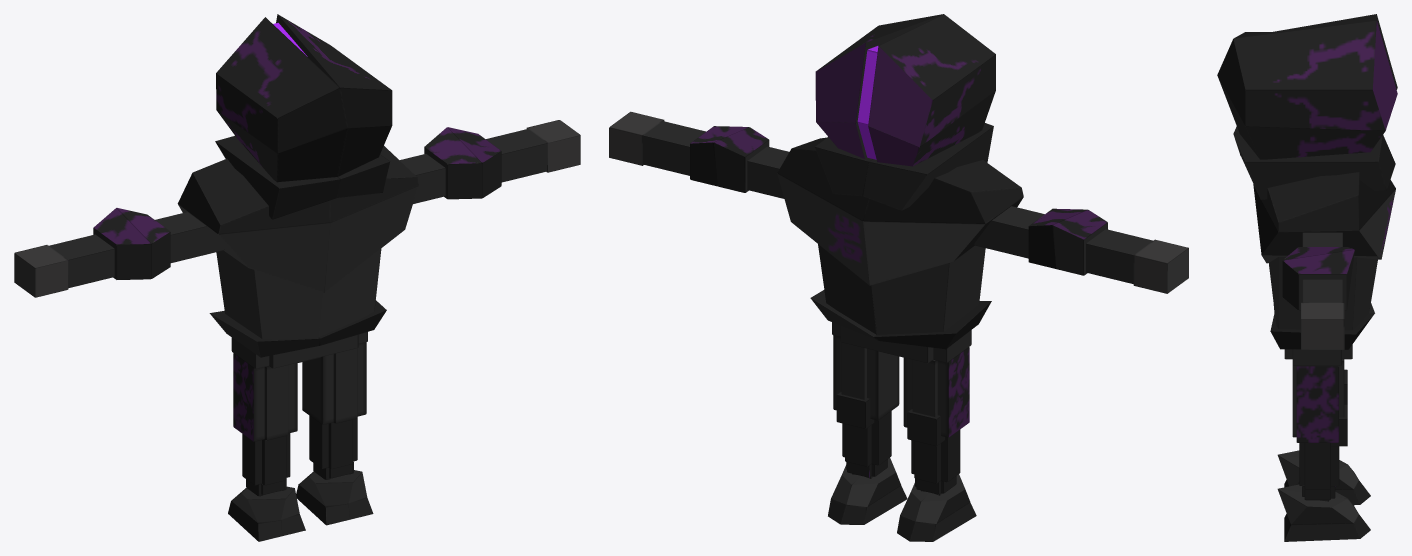
File: enemy.fbx
The picture shows the model from 3 angles, left to right: view 1: azimuth 30°, elevation 25°; view 2: azimuth 150°, elevation 25°; view 3: azimuth 270°, elevation 25°; orthographic projection. The views are drawn at different scales.
Visible parts, largest first — view 1: cuboid_12, cuboid_14, cuboid_7, cuboid_4, cuboid_2, cuboid_10, cuboid_8, cuboid_11, cuboid_15, cuboid_13, cuboid, cuboid_18 (+25 smaller); view 2: cuboid_12, cuboid_14, cuboid_7, cuboid_4, cuboid_8, cuboid_10, cuboid_2, cuboid_13, cuboid, cuboid_11, cuboid_15, cuboid_3 (+27 smaller); view 3: cuboid_10, cuboid_3, cuboid_6, cuboid_9, cuboid, cube_2, cuboid_2, cuboid_15, cuboid_19, cube_39, cuboid_13, cube_3 (+12 smaller).
Part boxes in pixels (<box>): cuboid_12: <box>216,17,347,153</box>; cuboid_14: <box>216,250,322,339</box>; cuboid_7: <box>177,158,330,234</box>; cuboid_4: <box>178,204,330,292</box>; cuboid_2: <box>324,185,418,292</box>; cuboid_10: <box>276,14,392,128</box>; cuboid_8: <box>215,136,340,219</box>; cuboid_11: <box>216,110,347,182</box>; cuboid_15: <box>318,249,381,337</box>; cuboid_13: <box>228,486,305,541</box>; cuboid: <box>296,470,373,525</box>; cuboid_18: <box>424,127,482,199</box>; cuboid_12: <box>868,14,995,147</box>; cuboid_14: <box>871,245,985,334</box>; cuboid_7: <box>863,160,1023,223</box>; cuboid_4: <box>863,192,1023,285</box>; cuboid_8: <box>863,123,993,210</box>; cuboid_10: <box>815,14,943,123</box>; cuboid_2: <box>777,173,869,285</box>; cuboid_13: <box>897,474,976,541</box>; cuboid: <box>828,458,907,524</box>; cuboid_11: <box>868,90,995,166</box>; cuboid_15: <box>818,244,877,334</box>; cuboid_3: <box>777,137,868,220</box>; cuboid_10: <box>1217,20,1397,130</box>; cuboid_3: <box>1253,172,1395,232</box>; cuboid_6: <box>1233,134,1395,199</box>; cuboid_9: <box>1218,77,1385,159</box>; cuboid: <box>1277,484,1370,541</box>; cube_2: <box>1296,366,1338,442</box>; cuboid_2: <box>1253,186,1395,263</box>; cuboid_15: <box>1268,257,1377,330</box>; cuboid_19: <box>1282,249,1354,310</box>; cube_39: <box>1301,302,1344,349</box>; cuboid_13: <box>1277,450,1370,505</box>; cube_3: <box>1304,443,1330,489</box>.
Size of the model in its own units: 505 by 424 by 140.
Materials: 1 (1 with a texture image).
